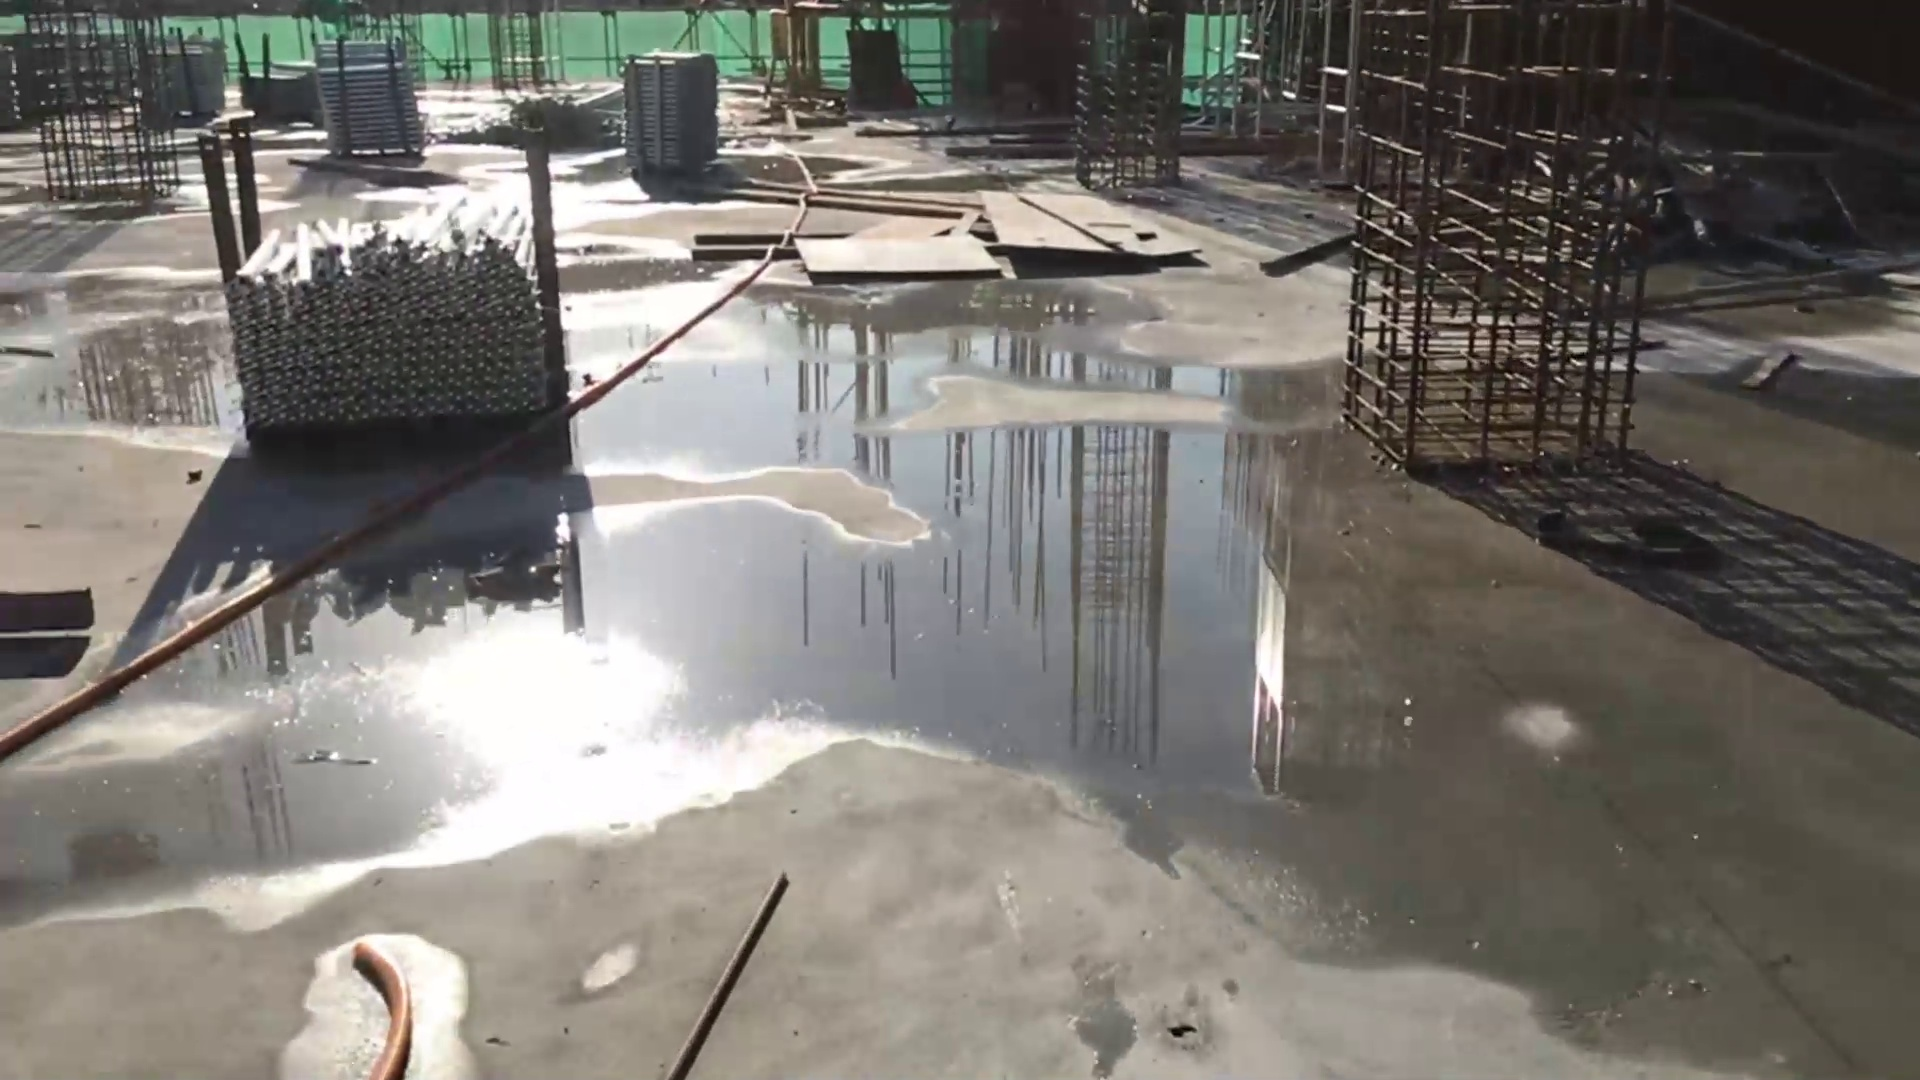scaffold: (235, 212, 564, 430), (622, 47, 721, 178), (313, 40, 423, 154)
